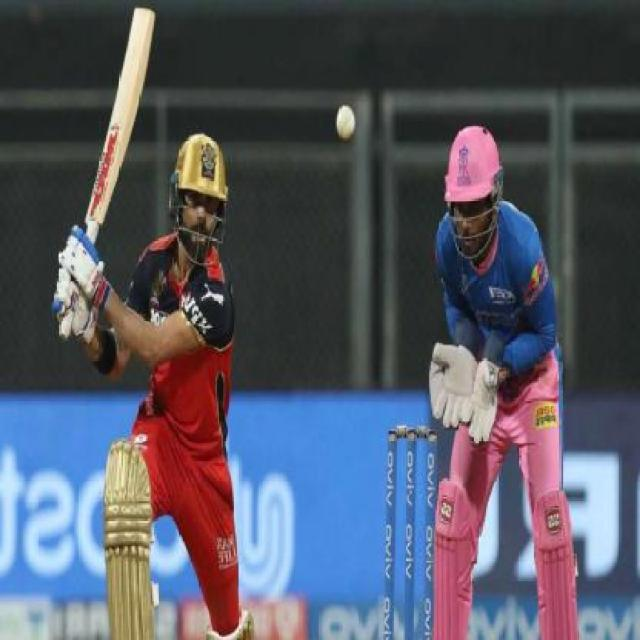ball: (312, 83, 376, 167)
